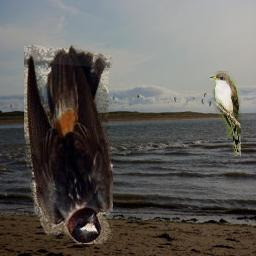Cuckoo: (211, 72, 242, 157)
Swallow: (25, 46, 114, 245)
